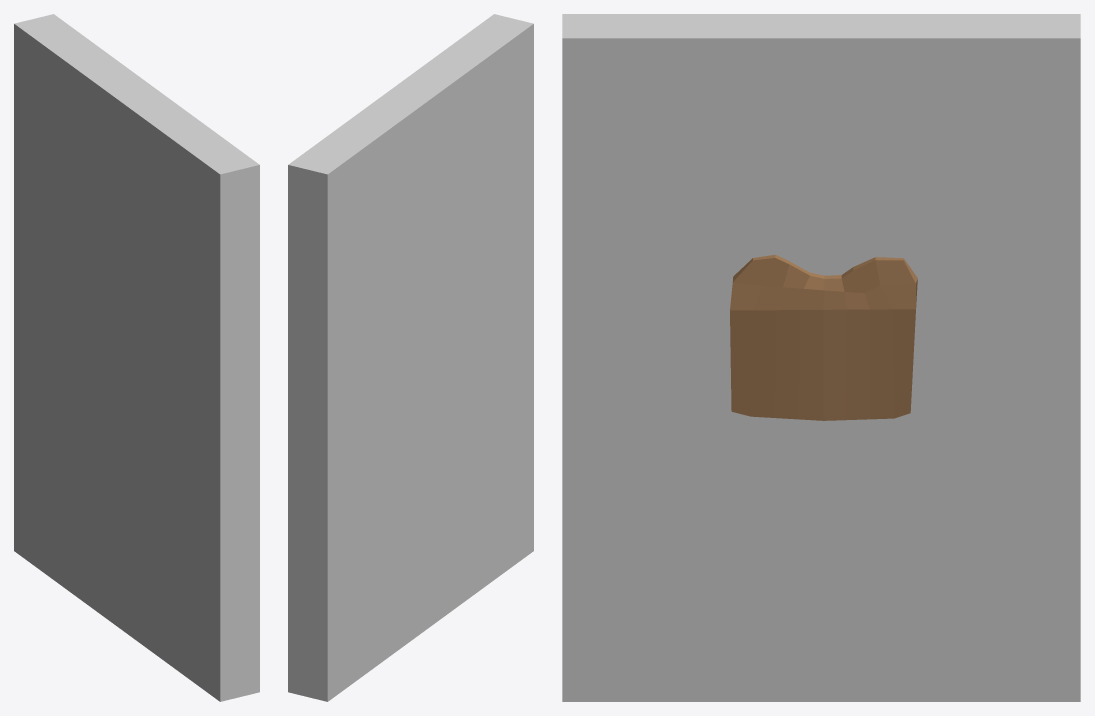
The model's file is ElevatorButton.fbx.
The picture shows the model from 3 angles, left to right: view 1: azimuth 30°, elevation 25°; view 2: azimuth 150°, elevation 25°; view 3: azimuth 270°, elevation 25°; orthographic projection. The views are drawn at different scales.
Visible parts, largest first — view 1: Cube; view 2: Cube; view 3: Cube, Cube.002.
Part boxes in pixels (x1,y1,x2,y2): Cube: (14,14,259,701); Cube: (288,14,533,701); Cube: (562,14,1080,701); Cube.002: (730,254,917,420).
Bounding box in the file's own units: 11.81 × 121 × 85.5.
